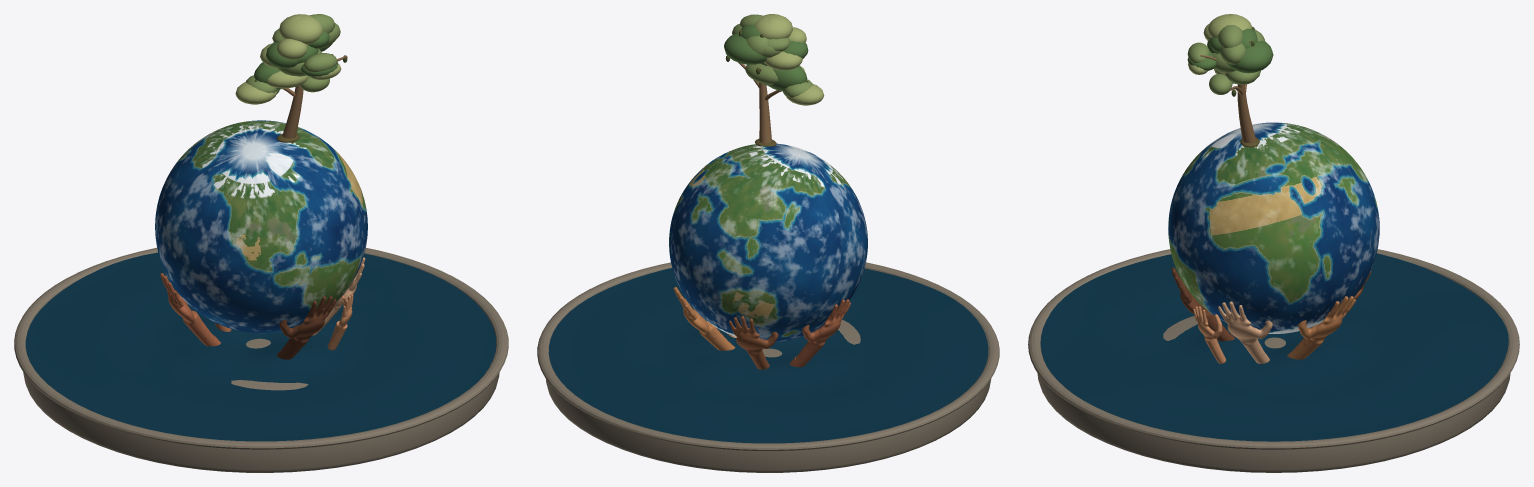
Rendered from held-in-common.glb.
3 renders of one model, left to right at view 1: azimuth 30°, elevation 25°; view 2: azimuth 150°, elevation 25°; view 3: azimuth 270°, elevation 25°, orthographic. The views are drawn at different scales.
Parts seen in each view (by area): view 1: Water, Earth, Plinth, Lip, Hand_0, Hand_4, Leaf_26, Trunk, Leaf_2, Hand_5, Leaf_14; view 2: Water, Earth, Plinth, Lip, Hand_4, Hand_3, Hand_2, Leaf_16, Leaf_26, Trunk, Leaf_7, Leaf_23 (+1 smaller); view 3: Water, Earth, Plinth, Lip, Hand_2, Hand_1, Leaf_16, Hand_5, Hand_0, Trunk, Leaf_26.
Boxes of the visible parts, x1,y1,x2,y2 form: Water: (25, 252, 496, 441); Earth: (155, 120, 367, 333); Plinth: (23, 338, 499, 472); Lip: (14, 247, 508, 449); Hand_0: (277, 296, 336, 359); Hand_4: (160, 273, 214, 346); Leaf_26: (279, 14, 322, 44); Trunk: (282, 85, 303, 142); Leaf_2: (235, 82, 277, 104); Hand_5: (327, 294, 353, 350); Leaf_14: (276, 38, 307, 59); Water: (548, 268, 988, 443); Earth: (669, 143, 867, 341); Plinth: (546, 319, 991, 472); Lip: (537, 262, 999, 451); Hand_4: (792, 299, 850, 367); Hand_3: (729, 316, 778, 369); Hand_2: (673, 287, 732, 350); Leaf_16: (724, 33, 766, 64); Leaf_26: (754, 14, 792, 39); Trunk: (759, 82, 771, 143); Leaf_7: (768, 66, 807, 91); Leaf_23: (764, 51, 802, 70); Water: (1040, 253, 1508, 441); Earth: (1168, 122, 1379, 333); Plinth: (1037, 316, 1510, 472); Lip: (1028, 249, 1519, 449); Hand_2: (1288, 296, 1355, 359); Hand_1: (1218, 301, 1272, 363); Leaf_16: (1226, 41, 1273, 73); Hand_5: (1193, 306, 1226, 363); Hand_0: (1171, 267, 1230, 341); Trunk: (1237, 84, 1256, 142); Leaf_26: (1208, 14, 1252, 37).
Size of the model in its own units: 1.49 by 1.25 by 1.49.
15 materials, 1 textured.
